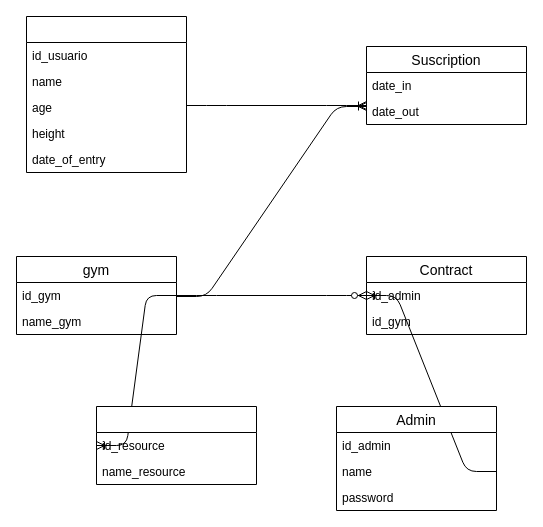
Image size: 543x527. Some labels were removed from this diagram. The shapes that lost their labels are listed below. From the top down, each one's box as (x1, y1, x2, y2) in pixels, then its label:
(26, 16, 186, 172): User
(96, 406, 256, 484): Recurso
